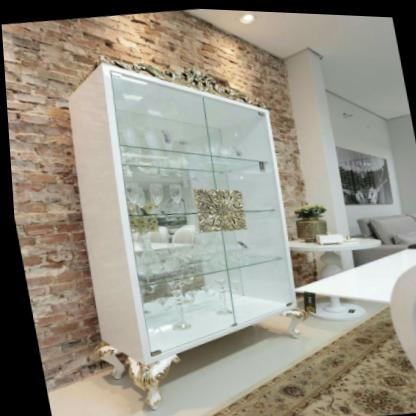Carpet: (204, 309, 416, 416)
Cupboard: (52, 60, 319, 416)
